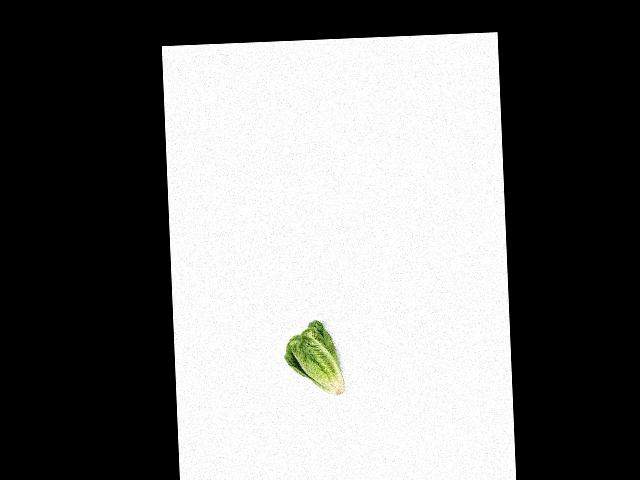lettuce: (283, 319, 347, 402)
